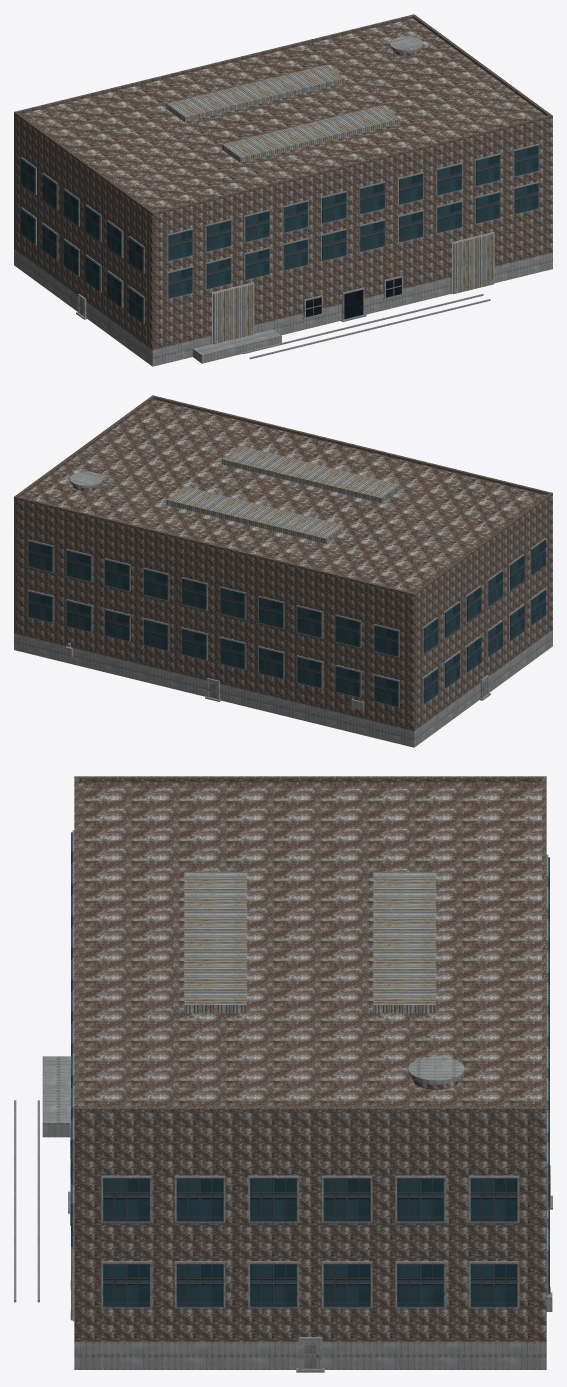
Rendered from ironworks-foundry_lod0.gltf.
The picture shows the model from 3 angles, top to bottom: view 1: azimuth 30°, elevation 25°; view 2: azimuth 150°, elevation 25°; view 3: azimuth 270°, elevation 25°; orthographic projection. The views are drawn at different scales.
Parts seen in each view (by area): view 1: ironworks-foundry_upper, ironworks-foundry_fen_07-glass-curtain-blue_1, ironworks-foundry_base, ironworks-foundry_fen_14-steel-panel_0, ironworks-foundry_fen_21-corrugated-steel_3, ironworks-foundry__roof_monitor_a, ironworks-foundry__roof_monitor_b, ironworks-foundry__parapet_front, ironworks-foundry__parapet_back, ironworks-foundry__loading_dock, ironworks-foundry_fen_07-glass-curtain-blue_4_t, ironworks-foundry__parapet_left (+5 smaller); view 2: ironworks-foundry_upper, ironworks-foundry_fen_07-glass-curtain-blue_1, ironworks-foundry_base, ironworks-foundry_fen_14-steel-panel_0, ironworks-foundry__roof_monitor_b, ironworks-foundry__roof_monitor_a, ironworks-foundry__parapet_back, ironworks-foundry__parapet_front, ironworks-foundry__parapet_left, ironworks-foundry__parapet_right, ironworks-foundry__chimney_cap; view 3: ironworks-foundry_upper, ironworks-foundry_fen_07-glass-curtain-blue_1, ironworks-foundry_base, ironworks-foundry_fen_14-steel-panel_0, ironworks-foundry__roof_monitor_a, ironworks-foundry__roof_monitor_b, ironworks-foundry__parapet_left, ironworks-foundry__parapet_right, ironworks-foundry__loading_dock, ironworks-foundry__parapet_front, ironworks-foundry__parapet_back, ironworks-foundry__chimney_cap.
Part boxes in pixels (x1,y1,x2,y2): ironworks-foundry_upper: [14, 18, 552, 349]; ironworks-foundry_fen_07-glass-curtain-blue_1: [21, 145, 538, 323]; ironworks-foundry_base: [14, 249, 552, 366]; ironworks-foundry_fen_14-steel-panel_0: [21, 144, 539, 344]; ironworks-foundry_fen_21-corrugated-steel_3: [213, 234, 493, 344]; ironworks-foundry__roof_monitor_a: [222, 105, 400, 162]; ironworks-foundry__roof_monitor_b: [166, 64, 344, 122]; ironworks-foundry__parapet_front: [151, 115, 552, 215]; ironworks-foundry__parapet_back: [14, 14, 415, 114]; ironworks-foundry__loading_dock: [192, 329, 281, 363]; ironworks-foundry_fen_07-glass-curtain-blue_4_t: [306, 278, 401, 319]; ironworks-foundry__parapet_left: [15, 112, 153, 214]; ironworks-foundry_upper: [14, 399, 552, 730]; ironworks-foundry_fen_07-glass-curtain-blue_1: [28, 539, 545, 706]; ironworks-foundry_base: [14, 630, 552, 747]; ironworks-foundry_fen_14-steel-panel_0: [27, 538, 545, 710]; ironworks-foundry__roof_monitor_b: [166, 486, 344, 543]; ironworks-foundry__roof_monitor_a: [222, 445, 400, 503]; ironworks-foundry__parapet_back: [14, 496, 415, 596]; ironworks-foundry__parapet_front: [151, 395, 552, 495]; ironworks-foundry__parapet_left: [413, 493, 551, 595]; ironworks-foundry__parapet_right: [15, 396, 153, 496]; ironworks-foundry__chimney_cap: [69, 471, 102, 488]; ironworks-foundry_upper: [74, 782, 546, 1341]; ironworks-foundry_fen_07-glass-curtain-blue_1: [71, 832, 549, 1307]; ironworks-foundry_base: [74, 1341, 546, 1369]; ironworks-foundry_fen_14-steel-panel_0: [70, 830, 552, 1369]; ironworks-foundry__roof_monitor_a: [184, 871, 247, 1013]; ironworks-foundry__roof_monitor_b: [373, 871, 436, 1013]; ironworks-foundry__parapet_left: [79, 776, 541, 782]; ironworks-foundry__parapet_right: [79, 1107, 541, 1113]; ironworks-foundry__loading_dock: [42, 1056, 70, 1137]; ironworks-foundry__parapet_front: [74, 776, 78, 1113]; ironworks-foundry__parapet_back: [542, 776, 546, 1113]; ironworks-foundry__chimney_cap: [408, 1056, 464, 1084].
Size of the model in its own units: 50.8 by 18.8 by 34.23.
